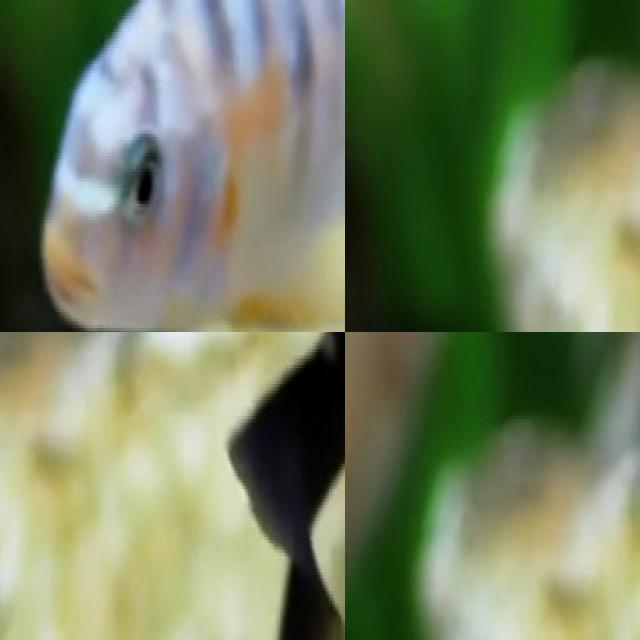fish: (0, 0, 345, 332), (345, 332, 456, 640)
